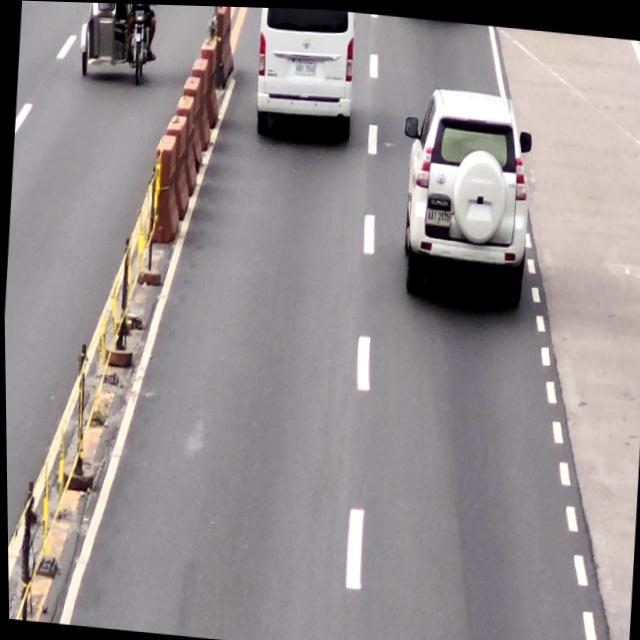Car: (392, 81, 537, 308), (249, 6, 360, 142)
License-Plate: (424, 203, 451, 223), (294, 56, 316, 75)
